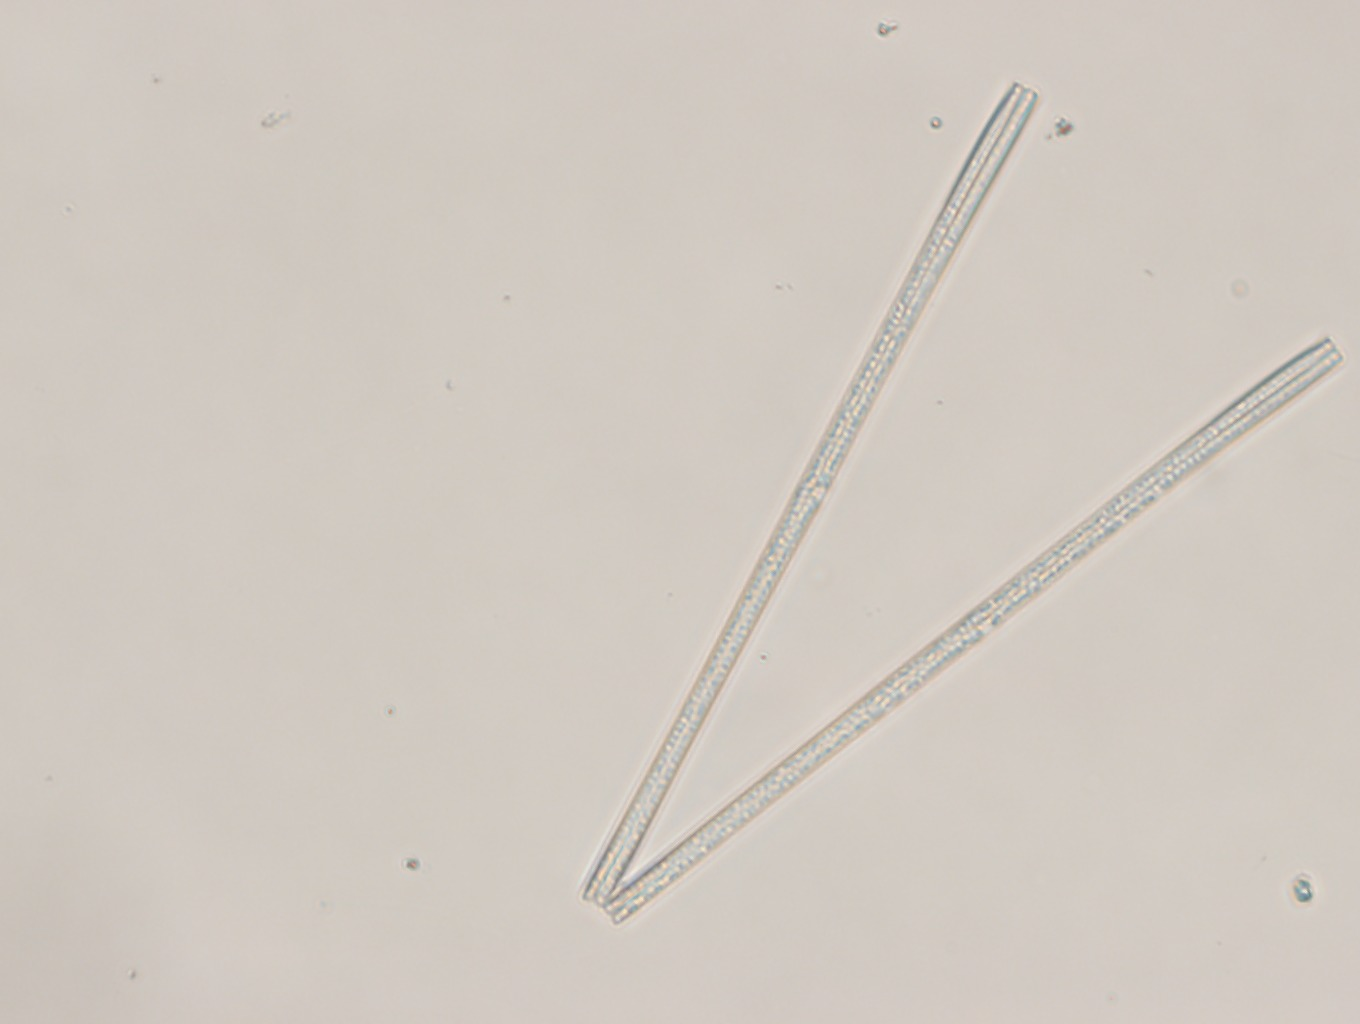thalassionema frauenfeldii: (566, 67, 1348, 928)
